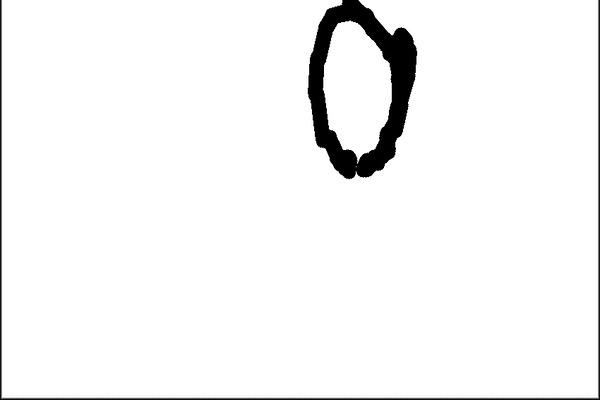O: (293, 0, 425, 185)
